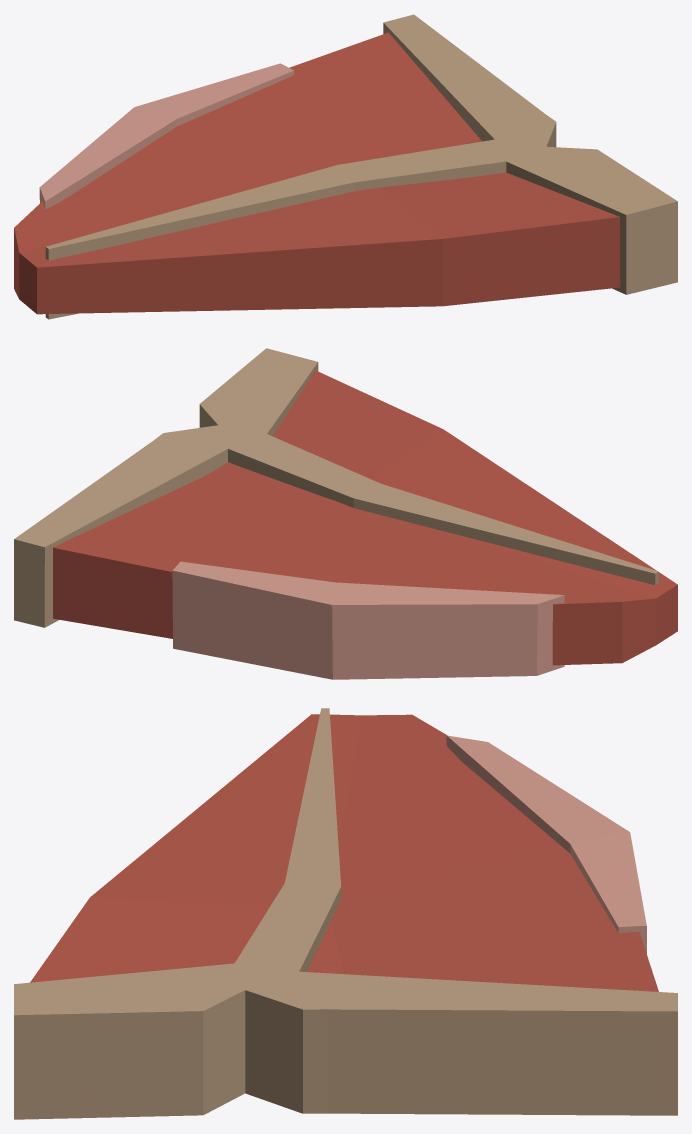
File: tBone.fbx
3 views of the same model, one above another, from view 1: azimuth 30°, elevation 25°; view 2: azimuth 150°, elevation 25°; view 3: azimuth 270°, elevation 25° (orthographic). The views are drawn at different scales.
Visible parts, largest first — view 1: tBone; view 2: tBone; view 3: tBone.
Boxes of the visible parts, x1=… form: tBone: x1=14, y1=14, x2=677, y2=319; tBone: x1=14, y1=348, x2=677, y2=679; tBone: x1=14, y1=708, x2=677, y2=1119.
Size of the model in its own units: 33.58 by 5.03 by 28.51.
Materials: 1 (1 with a texture image).
